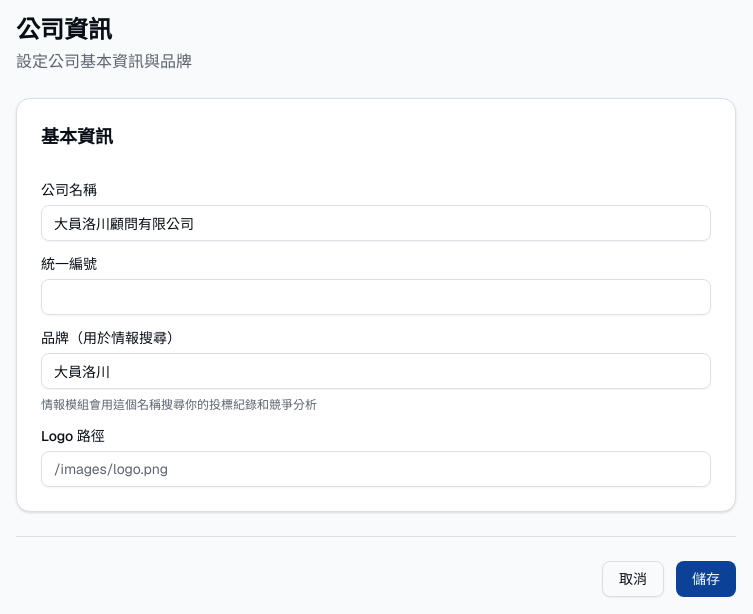
it: CompanyPage — 取消 › 點取消還原欄位到設定值
Replace the text in the field labelled "公司名稱" with "臨時修改" at (376, 223), box [41, 205, 711, 241]
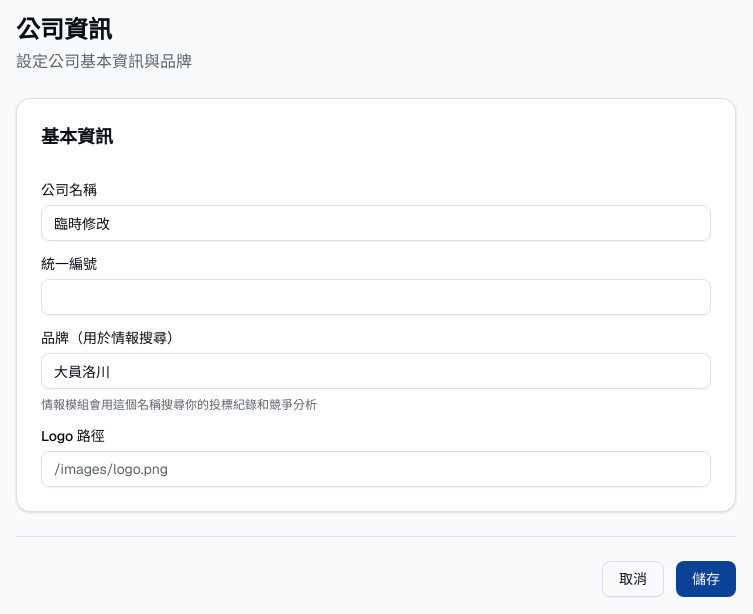
Click the button "取消".
click(633, 579)  # box [602, 561, 664, 597]
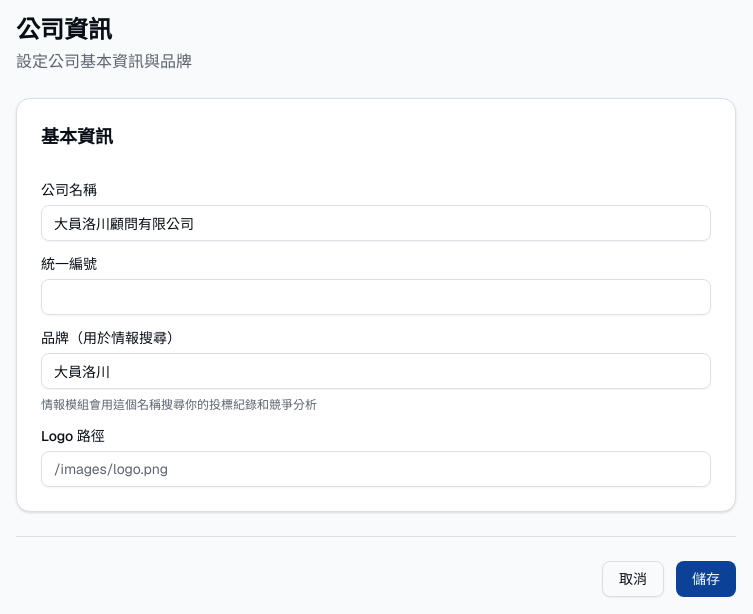
expect the field labelled "公司名稱" holds "大員洛川顧問有限公司": met, box [41, 205, 711, 241]
